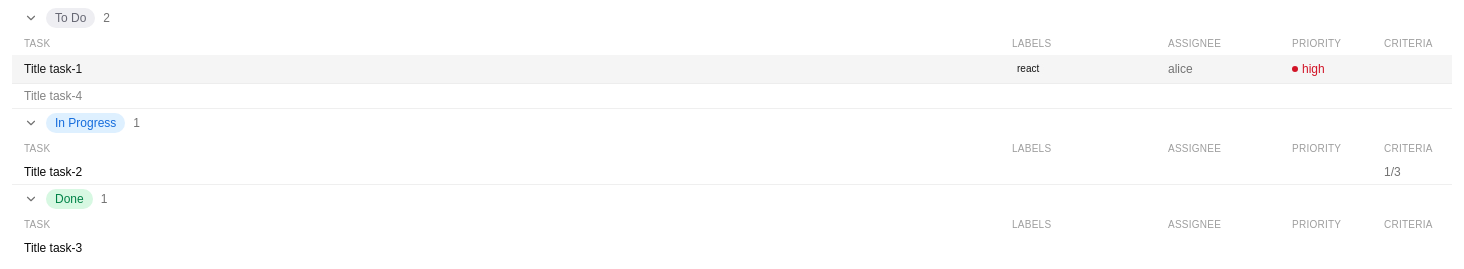
task list view › marks the selected task, dims one being advanced, and opens the context menu
Right-click the button "Title task-1 react alice high".
right_click(53, 69)  # box [12,55,1452,83]
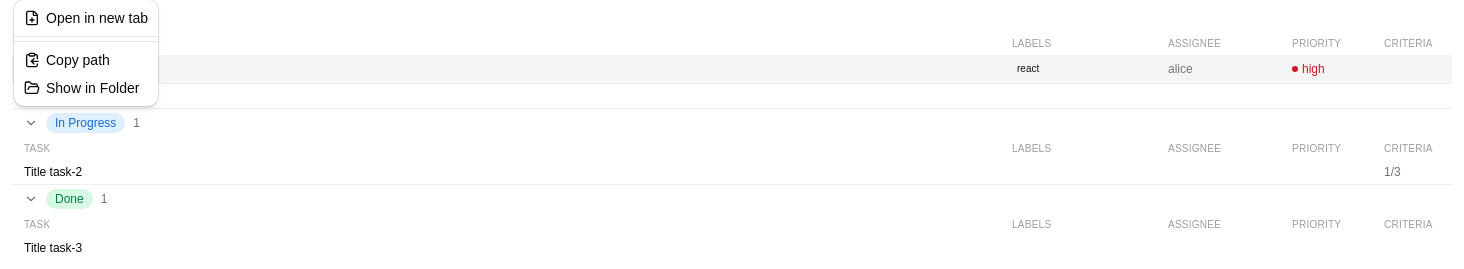
Expected: the menu item "Open in new tab" is shown, [24,10,148,26]
